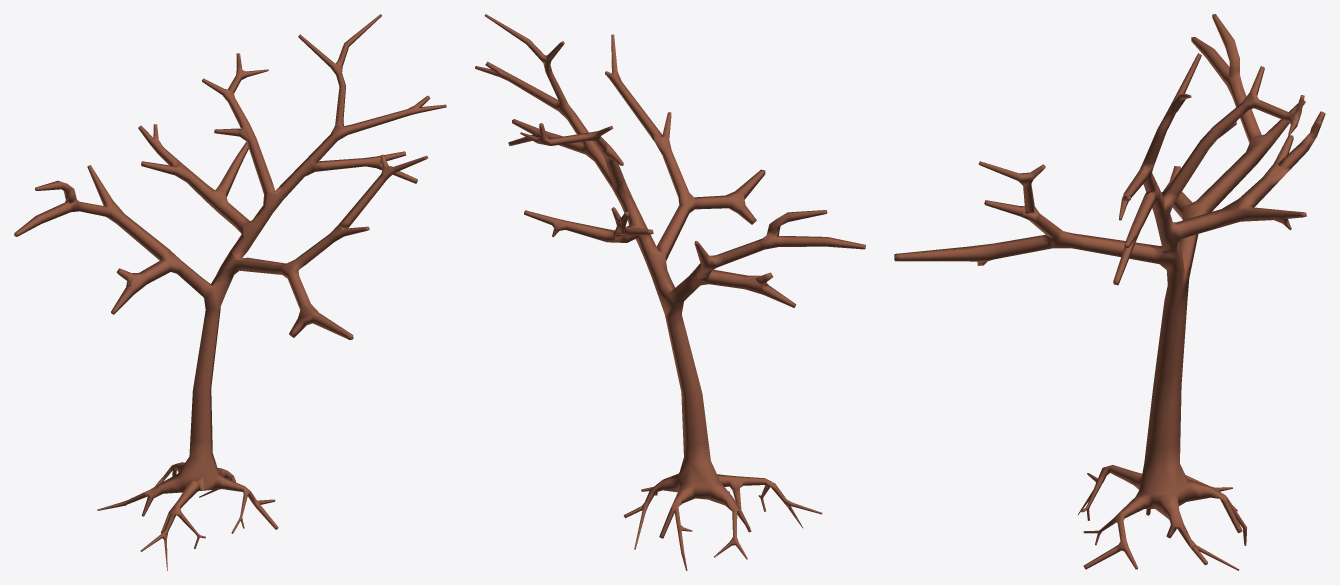
Rendered from Tree1_nacked.fbx.
3 renders of one model, left to right at view 1: azimuth 30°, elevation 25°; view 2: azimuth 150°, elevation 25°; view 3: azimuth 270°, elevation 25°, orthographic. The views are drawn at different scales.
Parts seen in each view (by area): view 1: Tree; view 2: Tree; view 3: Tree.
Boxes of the visible parts, x1,y1,x2,y2 form: Tree: (14,14,446,570); Tree: (475,14,865,570); Tree: (894,14,1325,570).
Bounding box in the file's own units: 1310 × 1443 × 971.
